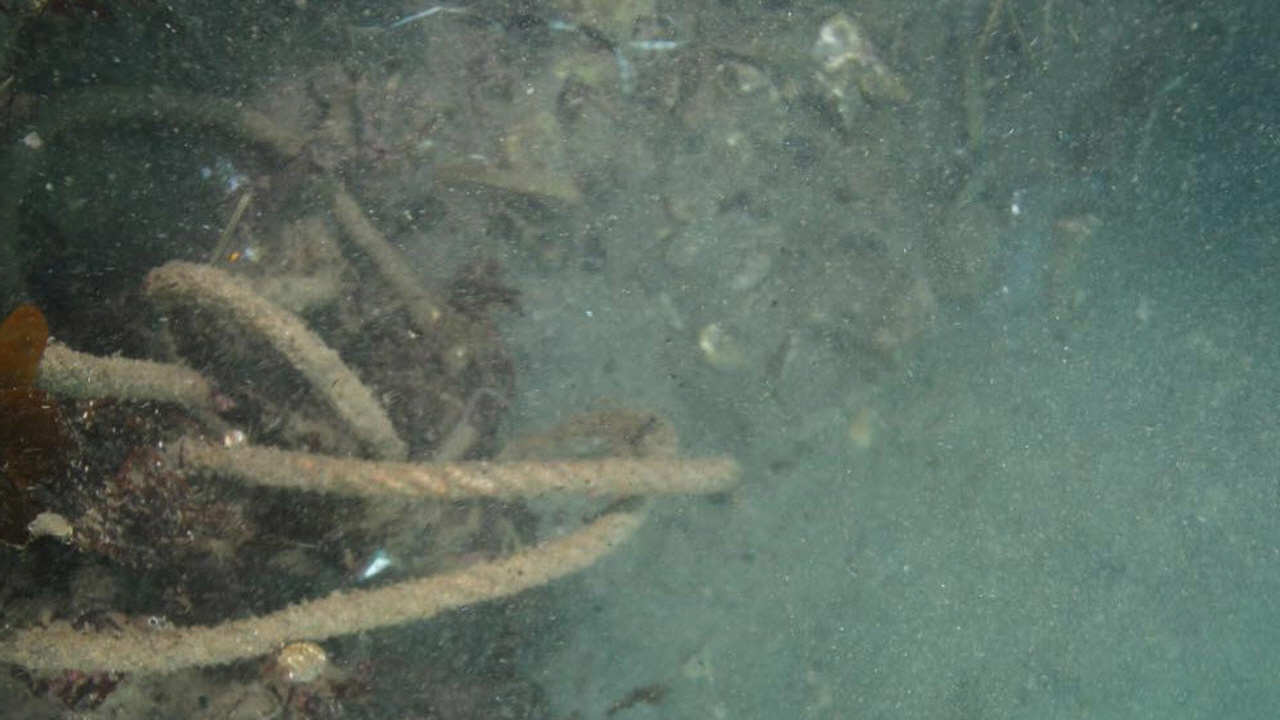bundle of ropes: (0, 75, 747, 680)
